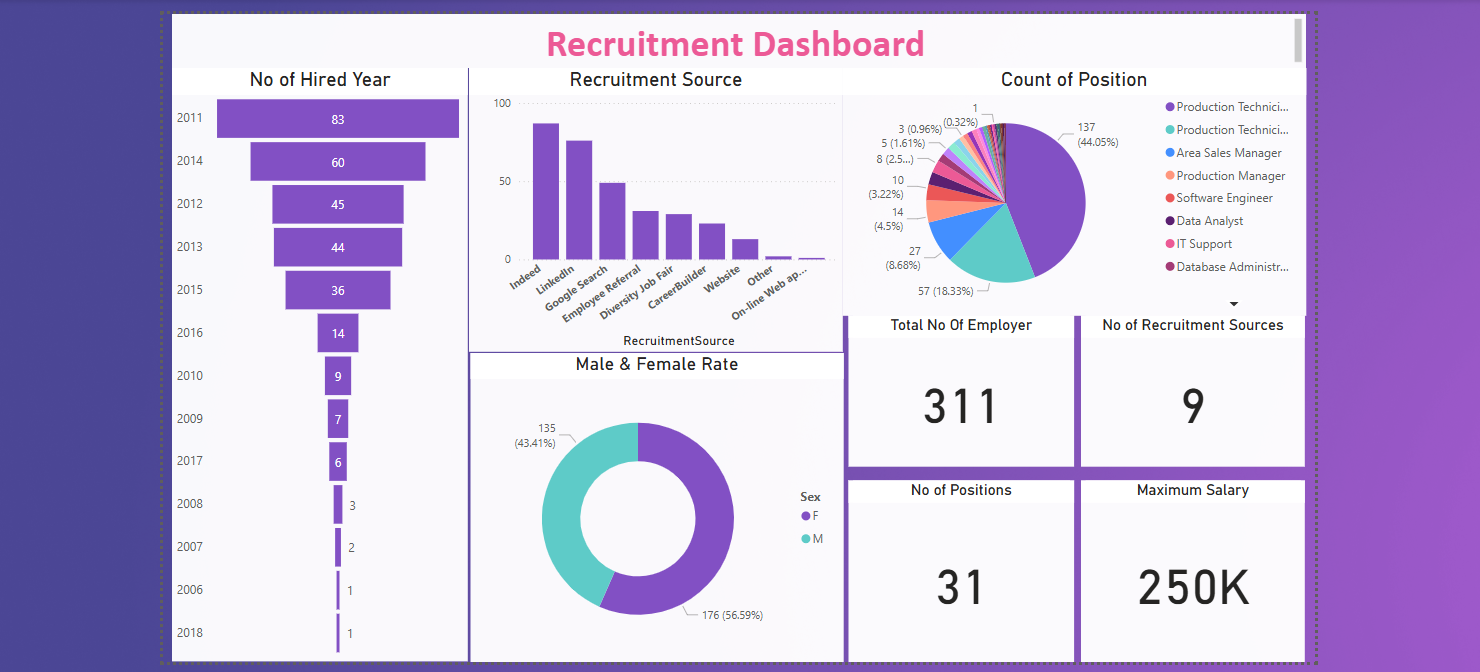

The dashboard page shown, as its layout file describes it:
{"tool":"powerbi","page":{"name":"Page 1","canvas":[1280,720],"ordinal":0},"visuals":[{"type":"card","title":"Total No Of  Employer","fields":{"Values":["CountNonNull(HRDataset.EmpID)"]},"box":[761.4,335.5,250.7,167.8],"z":0},{"type":"card","title":"No of Recruitment Sources","fields":{"Values":["Count(HRDataset.RecruitmentSource)"]},"box":[1019.5,335.5,248.9,167.8],"z":1000},{"type":"card","title":"Maximum Salary","fields":{"Values":["Max(HRDataset.Salary)"]},"box":[1019.5,518,248.9,202.8],"z":2000},{"type":"pieChart","title":"Count of Position","fields":{"Y":["CountNonNull(HRDataset.Position)"],"Category":["HRDataset.Position"]},"box":[755,60,515,275],"z":3000},{"type":"donutChart","title":"Male & Female Rate","fields":{"Category":["HRDataset.Sex"],"Y":["CountNonNull(HRDataset.Sex)"]},"box":[341,376.1,414.8,344.7],"z":4000},{"type":"columnChart","title":"Recruitment Source","fields":{"Category":["HRDataset.RecruitmentSource"],"Y":["CountNonNull(HRDataset.RecruitmentSource)"]},"box":[340,60,415.6,315.6],"z":5000},{"type":"funnel","title":"No of Hired Year","fields":{"Category":["HRDataset.Hired Year"],"Y":["CountNonNull(HRDataset.Hired Year)"]},"box":[10.6,60.6,328.8,659.1],"z":6000},{"type":"card","title":"No of Positions","fields":{"Values":["Count(HRDataset.Position)"]},"box":[761.4,518,250.7,202.8],"z":7000},{"type":"textbox","box":[10,0,1260,60],"z":8000}]}

Visuals, with their boxes on the page's 1280x720 design canvas (x1, y1, x2, y2). These are canvas units, not pixel positions in the 1480x672 screenshot, which may show the page scaled, cropped or inside an application window:
"Total No Of  Employer" card: (x1=761, y1=336, x2=1012, y2=503)
"No of Recruitment Sources" card: (x1=1020, y1=336, x2=1268, y2=503)
"Maximum Salary" card: (x1=1020, y1=518, x2=1268, y2=721)
"Count of Position" pieChart: (x1=755, y1=60, x2=1270, y2=335)
"Male & Female Rate" donutChart: (x1=341, y1=376, x2=756, y2=721)
"Recruitment Source" columnChart: (x1=340, y1=60, x2=756, y2=376)
"No of Hired Year" funnel: (x1=11, y1=61, x2=339, y2=720)
"No of Positions" card: (x1=761, y1=518, x2=1012, y2=721)
textbox: (x1=10, y1=0, x2=1270, y2=60)
